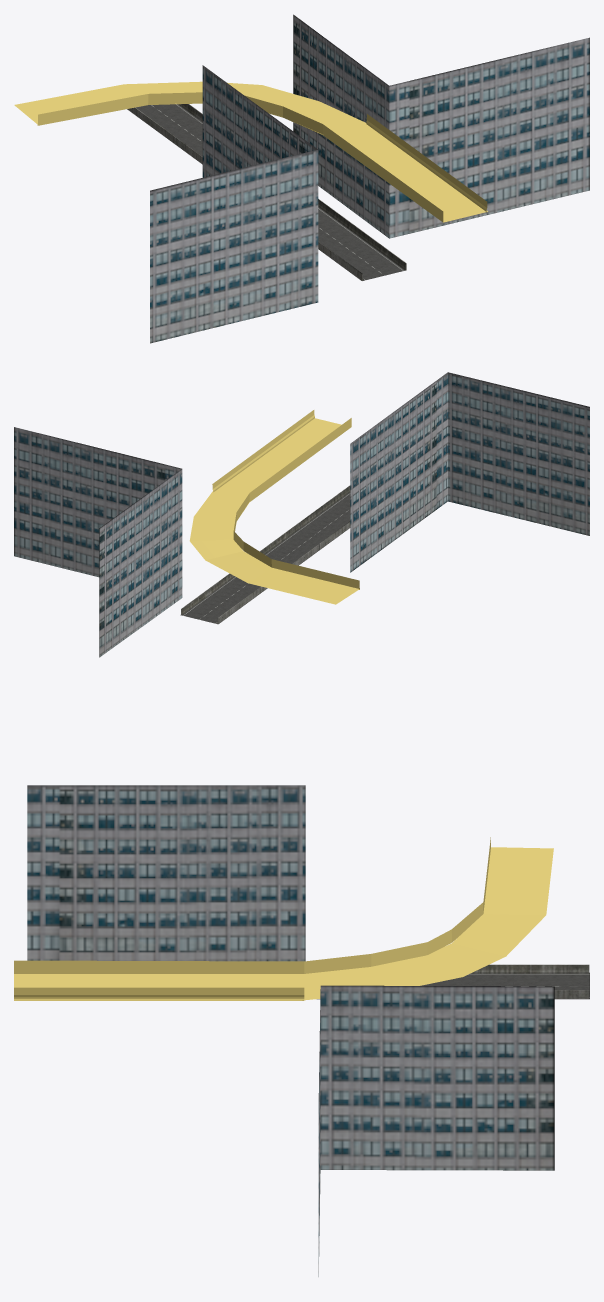
File: Enviroment_assets_1.7.fbx
3 views of the same model, one above another, from view 1: azimuth 30°, elevation 25°; view 2: azimuth 150°, elevation 25°; view 3: azimuth 270°, elevation 25° (orthographic). The views are drawn at different scales.
Visible parts, largest first — view 1: Cube.021, Plane.011, Plane.012, Road_plane, Plane.002, Plane.001; view 2: Cube.021, Plane.011, Road_plane, Plane.012, Plane.001, Plane.002; view 3: Cube.021, Plane.011, Plane.012, Road_plane, Plane.002.
Part boxes in pixels (bbox=[...]): Cube.021: bbox=[150, 14, 589, 343]; Plane.011: bbox=[14, 81, 487, 222]; Plane.012: bbox=[37, 92, 487, 222]; Road_plane: bbox=[127, 104, 405, 280]; Plane.002: bbox=[127, 107, 363, 280]; Plane.001: bbox=[179, 104, 406, 270]; Cube.021: bbox=[14, 372, 589, 657]; Plane.011: bbox=[189, 418, 359, 604]; Road_plane: bbox=[180, 492, 350, 624]; Plane.012: bbox=[212, 410, 359, 589]; Plane.001: bbox=[181, 485, 350, 614]; Plane.002: bbox=[217, 521, 350, 623]; Cube.021: bbox=[27, 785, 554, 1276]; Plane.011: bbox=[14, 847, 553, 1000]; Plane.012: bbox=[14, 837, 490, 1000]; Road_plane: bbox=[317, 972, 589, 999]; Plane.002: bbox=[471, 964, 589, 973].
Size of the model in its own units: 40642 by 15592 by 29997.
